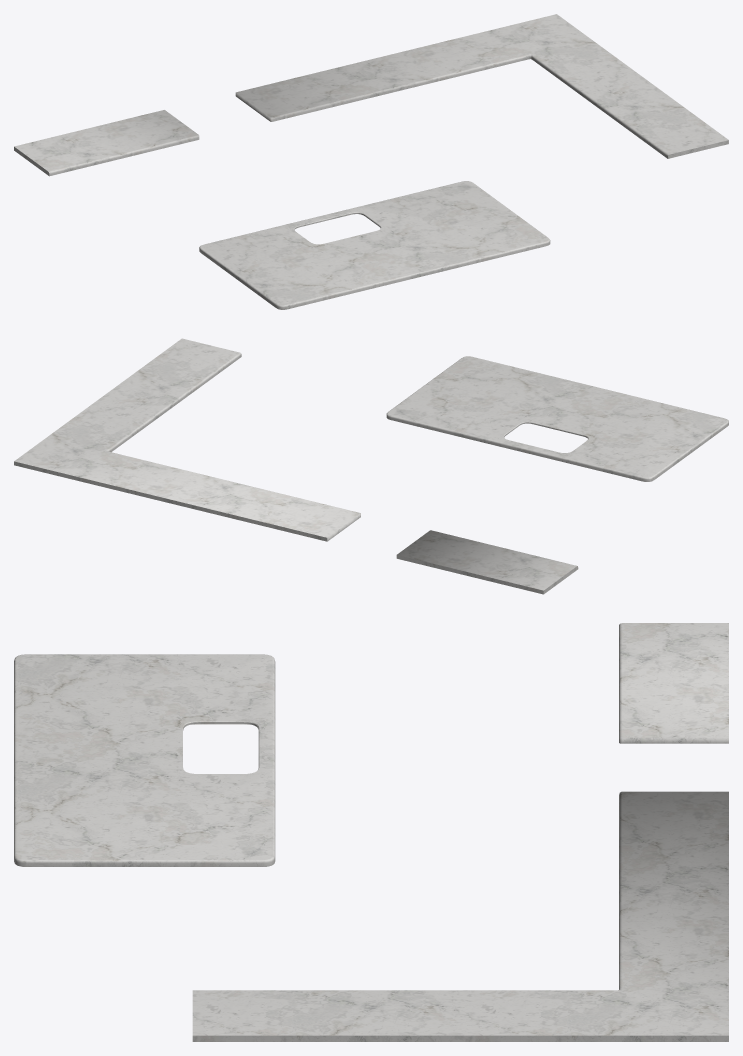
The model's file is 1989_kitchen_Countertops_QuartzCalacattaKarmelo.gltf.
The picture shows the model from 3 angles, top to bottom: view 1: azimuth 30°, elevation 25°; view 2: azimuth 150°, elevation 25°; view 3: azimuth 270°, elevation 25°; orthographic projection. The views are drawn at different scales.
Visible parts, largest first — view 1: Line22374, Line23355, Line23421, Line22377; view 2: Line22374, Line23355, Line23421, Line22377; view 3: Line22374, Line23355, Line23421, Line22377.
Part boxes in pixels (bbox=[...]): Line22374: bbox=[199, 181, 550, 309]; Line23355: bbox=[235, 14, 728, 158]; Line23421: bbox=[14, 110, 199, 176]; Line22377: bbox=[286, 209, 389, 247]; Line22374: bbox=[386, 356, 728, 481]; Line23355: bbox=[14, 338, 360, 541]; Line23421: bbox=[396, 530, 578, 594]; Line22377: bbox=[496, 418, 596, 455]; Line22374: bbox=[14, 654, 275, 866]; Line23355: bbox=[192, 791, 728, 1041]; Line23421: bbox=[619, 623, 728, 743]; Line22377: bbox=[176, 718, 261, 776].
Bounding box in the file's own units: 7.1 × 0.07 × 5.2.
Materials: 1 (1 with a texture image).
